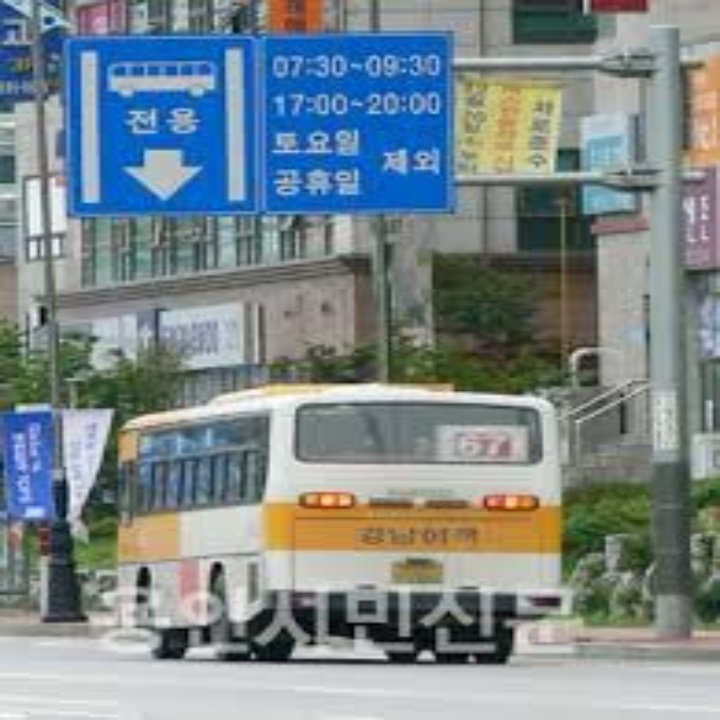bus: (99, 51, 224, 103)
